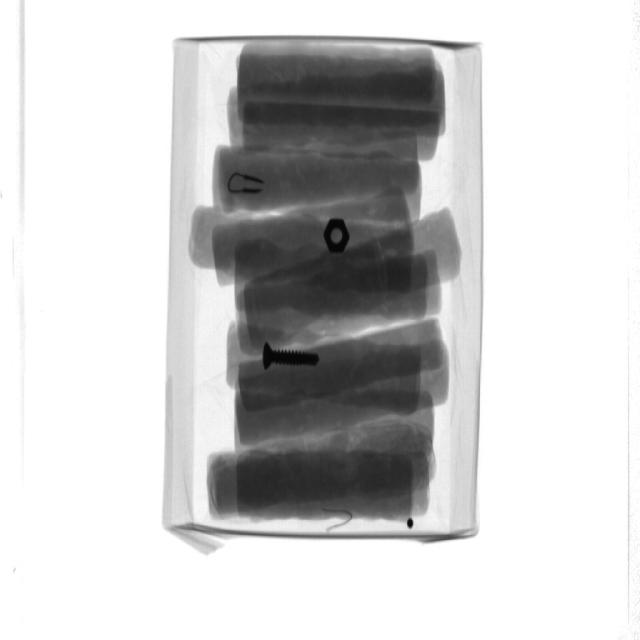ym: (264, 343, 320, 371), (325, 218, 351, 255), (228, 173, 266, 195), (324, 505, 353, 532), (408, 519, 416, 529)
